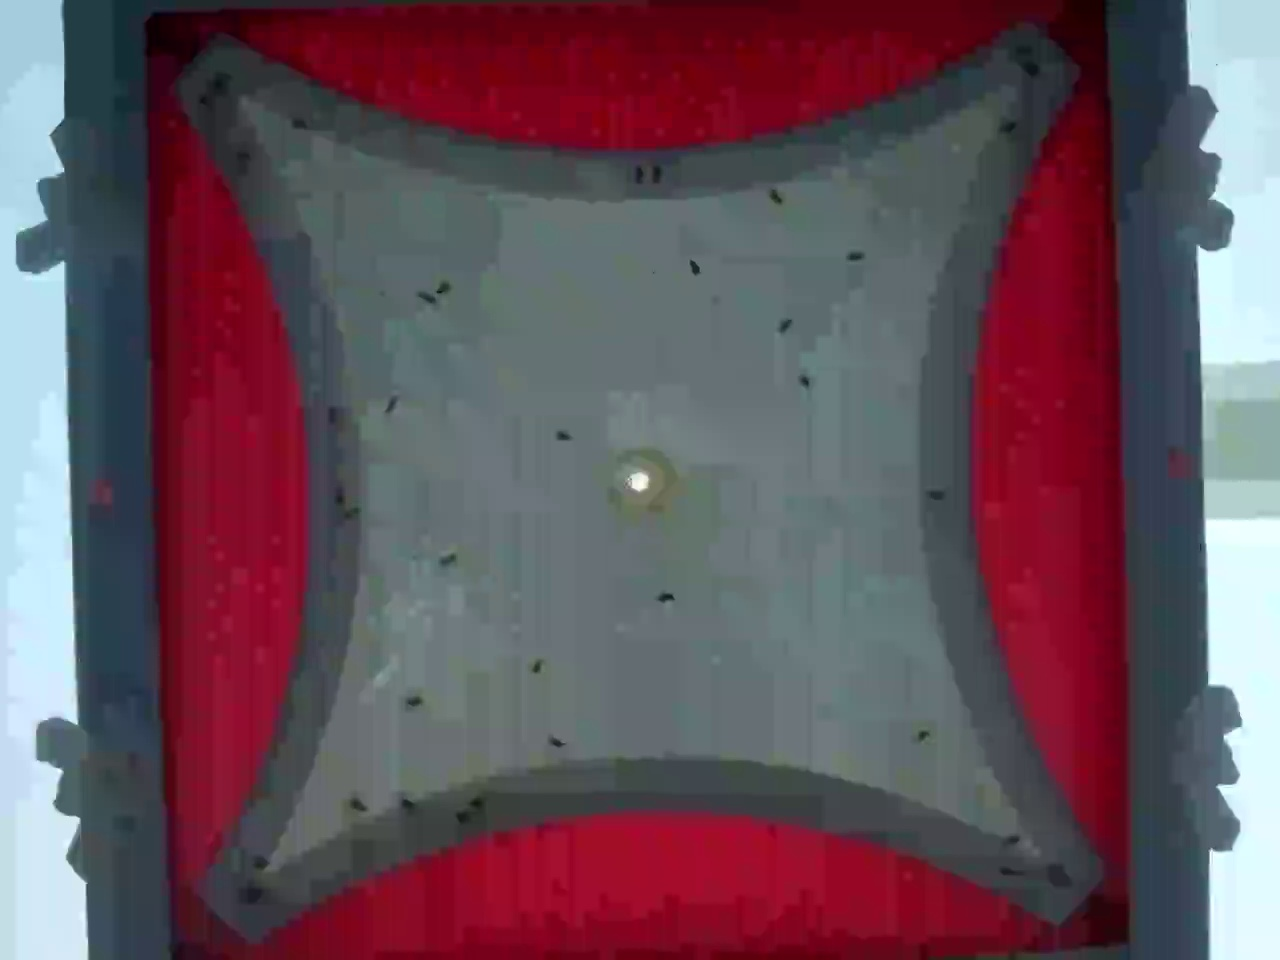fly: (763, 184, 788, 209), (842, 244, 867, 269), (286, 110, 311, 135), (996, 113, 1021, 138), (773, 311, 798, 336), (791, 368, 816, 393), (378, 392, 403, 417), (325, 482, 350, 507), (923, 482, 948, 507), (652, 584, 677, 609), (550, 423, 575, 448), (909, 722, 934, 747), (542, 729, 567, 754), (400, 689, 425, 714), (343, 790, 368, 815), (392, 790, 417, 815), (460, 790, 485, 815), (1001, 826, 1026, 851), (992, 857, 1017, 882), (626, 160, 651, 185), (644, 160, 669, 185), (681, 254, 706, 279), (414, 285, 439, 310), (431, 275, 456, 301), (524, 654, 549, 679), (435, 546, 460, 571), (318, 395, 343, 419)
